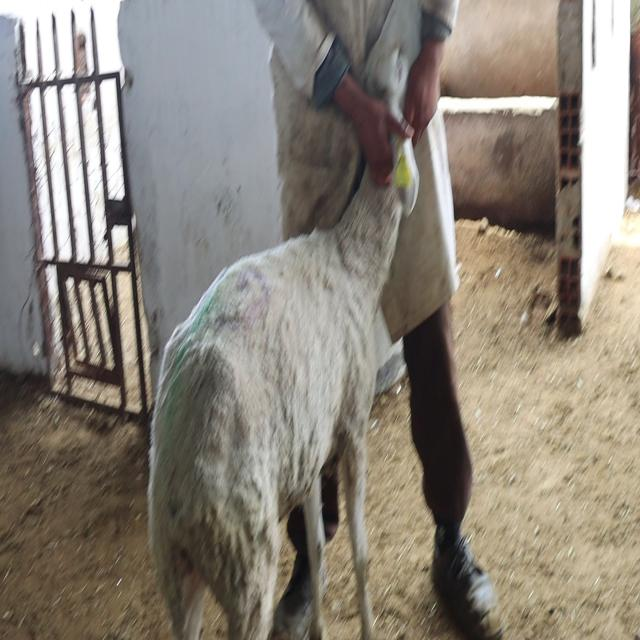Score_1: (147, 138, 419, 639)
